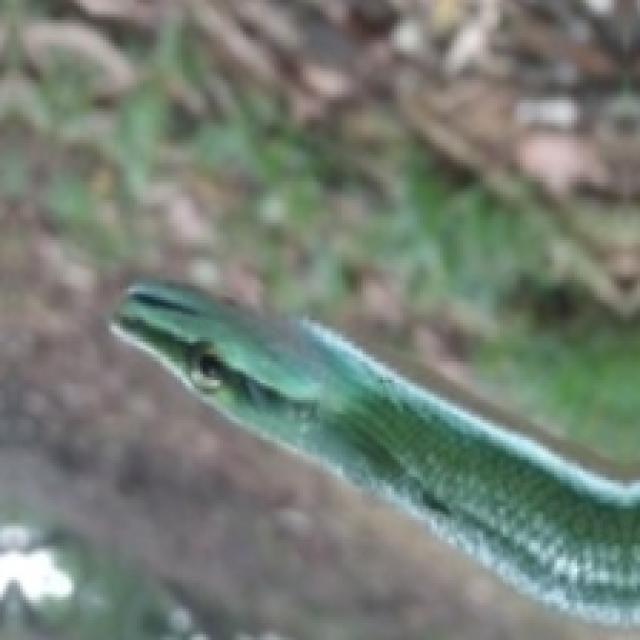red-tailed green ratsnake: (117, 280, 637, 623)
